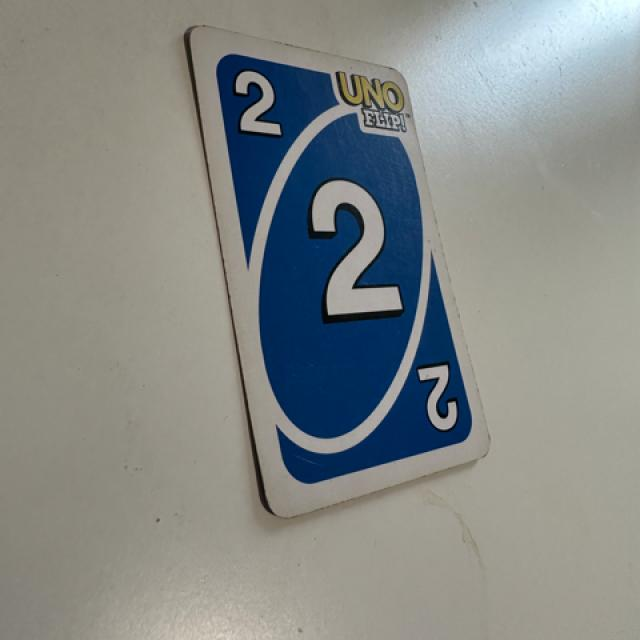lblue-2: (214, 43, 298, 156)
